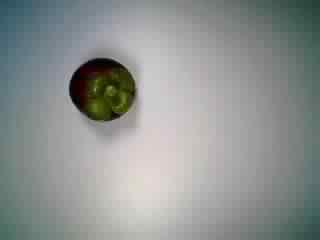mangosteen: (65, 53, 143, 125)
